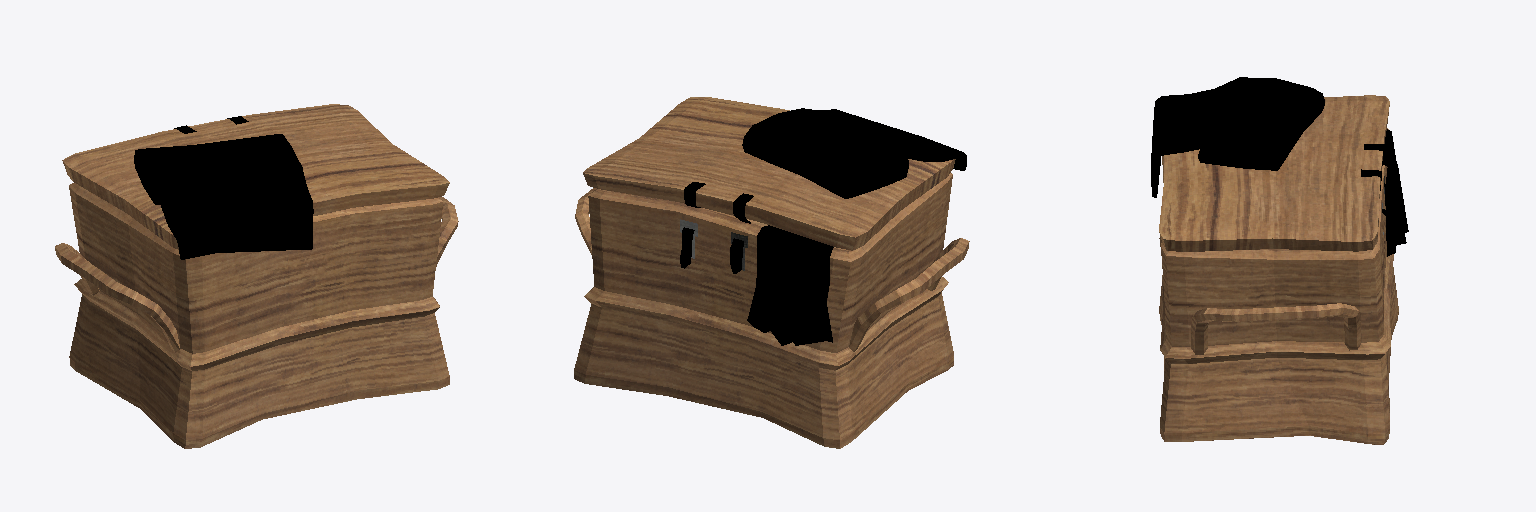
The picture shows the model from 3 angles: view 1: azimuth 30°, elevation 25°; view 2: azimuth 150°, elevation 25°; view 3: azimuth 270°, elevation 25°; orthographic projection.
Parts seen in each view (by area): view 1: cama_techo_buro_escaleras:polySurface1431 polySurface7, polySurface1 cama_techo_buro_escaleras:polySurface1431, cama_techo_buro_escaleras:polySurface1431 polySurface5, cama_techo_buro_escaleras:polySurface1431 polySurface4, cama_techo_buro_escaleras:polySurface1431 polySurface3; view 2: cama_techo_buro_escaleras:polySurface1431 polySurface7, polySurface1 cama_techo_buro_escaleras:polySurface1431, cama_techo_buro_escaleras:polySurface1431 polySurface5, cama_techo_buro_escaleras:polySurface1431 polySurface2, cama_techo_buro_escaleras:polySurface1431 polySurface4, cama_techo_buro_escaleras:polySurface1431 polySurface9, cama_techo_buro_escaleras:polySurface1431 polySurface10, cama_techo_buro_escaleras:polySurface1431 polySurface3; view 3: cama_techo_buro_escaleras:polySurface1431 polySurface7, polySurface1 cama_techo_buro_escaleras:polySurface1431, cama_techo_buro_escaleras:polySurface1431 polySurface5, cama_techo_buro_escaleras:polySurface1431 polySurface3, cama_techo_buro_escaleras:polySurface1431 polySurface2.
Part boxes in pixels (x1,y1,x2,y2): cama_techo_buro_escaleras:polySurface1431 polySurface7: (69, 183, 449, 448); polySurface1 cama_techo_buro_escaleras:polySurface1431: (62, 104, 449, 249); cama_techo_buro_escaleras:polySurface1431 polySurface5: (134, 134, 313, 259); cama_techo_buro_escaleras:polySurface1431 polySurface4: (55, 243, 179, 352); cama_techo_buro_escaleras:polySurface1431 polySurface3: (436, 197, 458, 266); cama_techo_buro_escaleras:polySurface1431 polySurface7: (574, 173, 953, 448); polySurface1 cama_techo_buro_escaleras:polySurface1431: (583, 97, 955, 250); cama_techo_buro_escaleras:polySurface1431 polySurface5: (742, 108, 966, 198); cama_techo_buro_escaleras:polySurface1431 polySurface2: (747, 225, 833, 345); cama_techo_buro_escaleras:polySurface1431 polySurface4: (849, 238, 969, 351); cama_techo_buro_escaleras:polySurface1431 polySurface9: (730, 193, 753, 273); cama_techo_buro_escaleras:polySurface1431 polySurface10: (680, 182, 705, 268); cama_techo_buro_escaleras:polySurface1431 polySurface3: (575, 188, 596, 254); cama_techo_buro_escaleras:polySurface1431 polySurface7: (1159, 128, 1398, 444); polySurface1 cama_techo_buro_escaleras:polySurface1431: (1159, 95, 1389, 251); cama_techo_buro_escaleras:polySurface1431 polySurface5: (1151, 77, 1324, 197); cama_techo_buro_escaleras:polySurface1431 polySurface3: (1191, 303, 1360, 354); cama_techo_buro_escaleras:polySurface1431 polySurface2: (1383, 129, 1408, 256).
Bounding box in the file's own units: 1.55 × 1.05 × 0.9918.
5 materials, 2 textured.